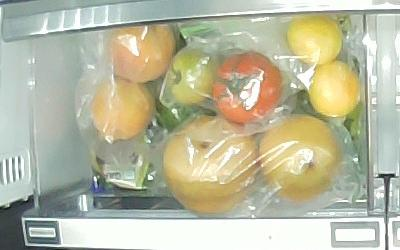peach_vinyl: (105, 19, 175, 84), (90, 76, 155, 141)
pear_vinyl: (161, 116, 260, 214), (260, 114, 344, 203)
tangerine_vinyl: (307, 59, 361, 118), (285, 14, 343, 66)
tomato_vinyl: (213, 50, 282, 124), (167, 48, 214, 105)
